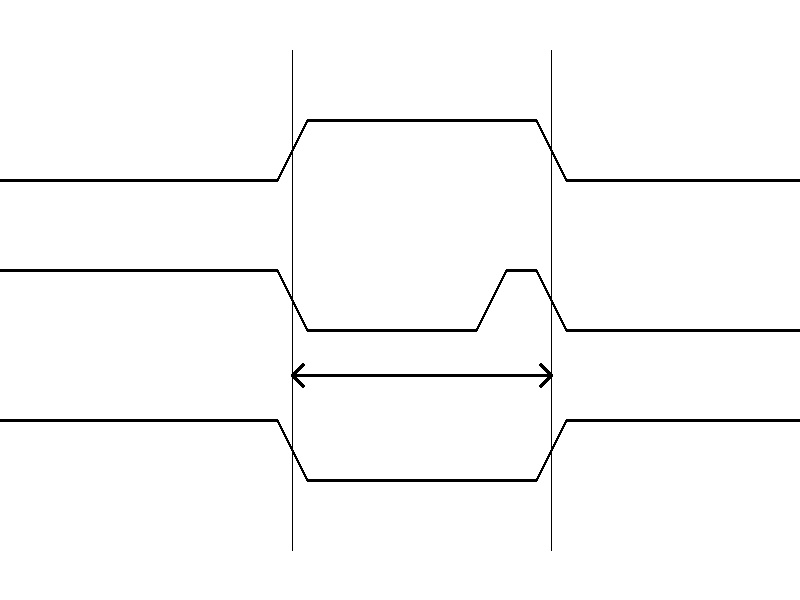double_arrow: (292, 360, 551, 390)
